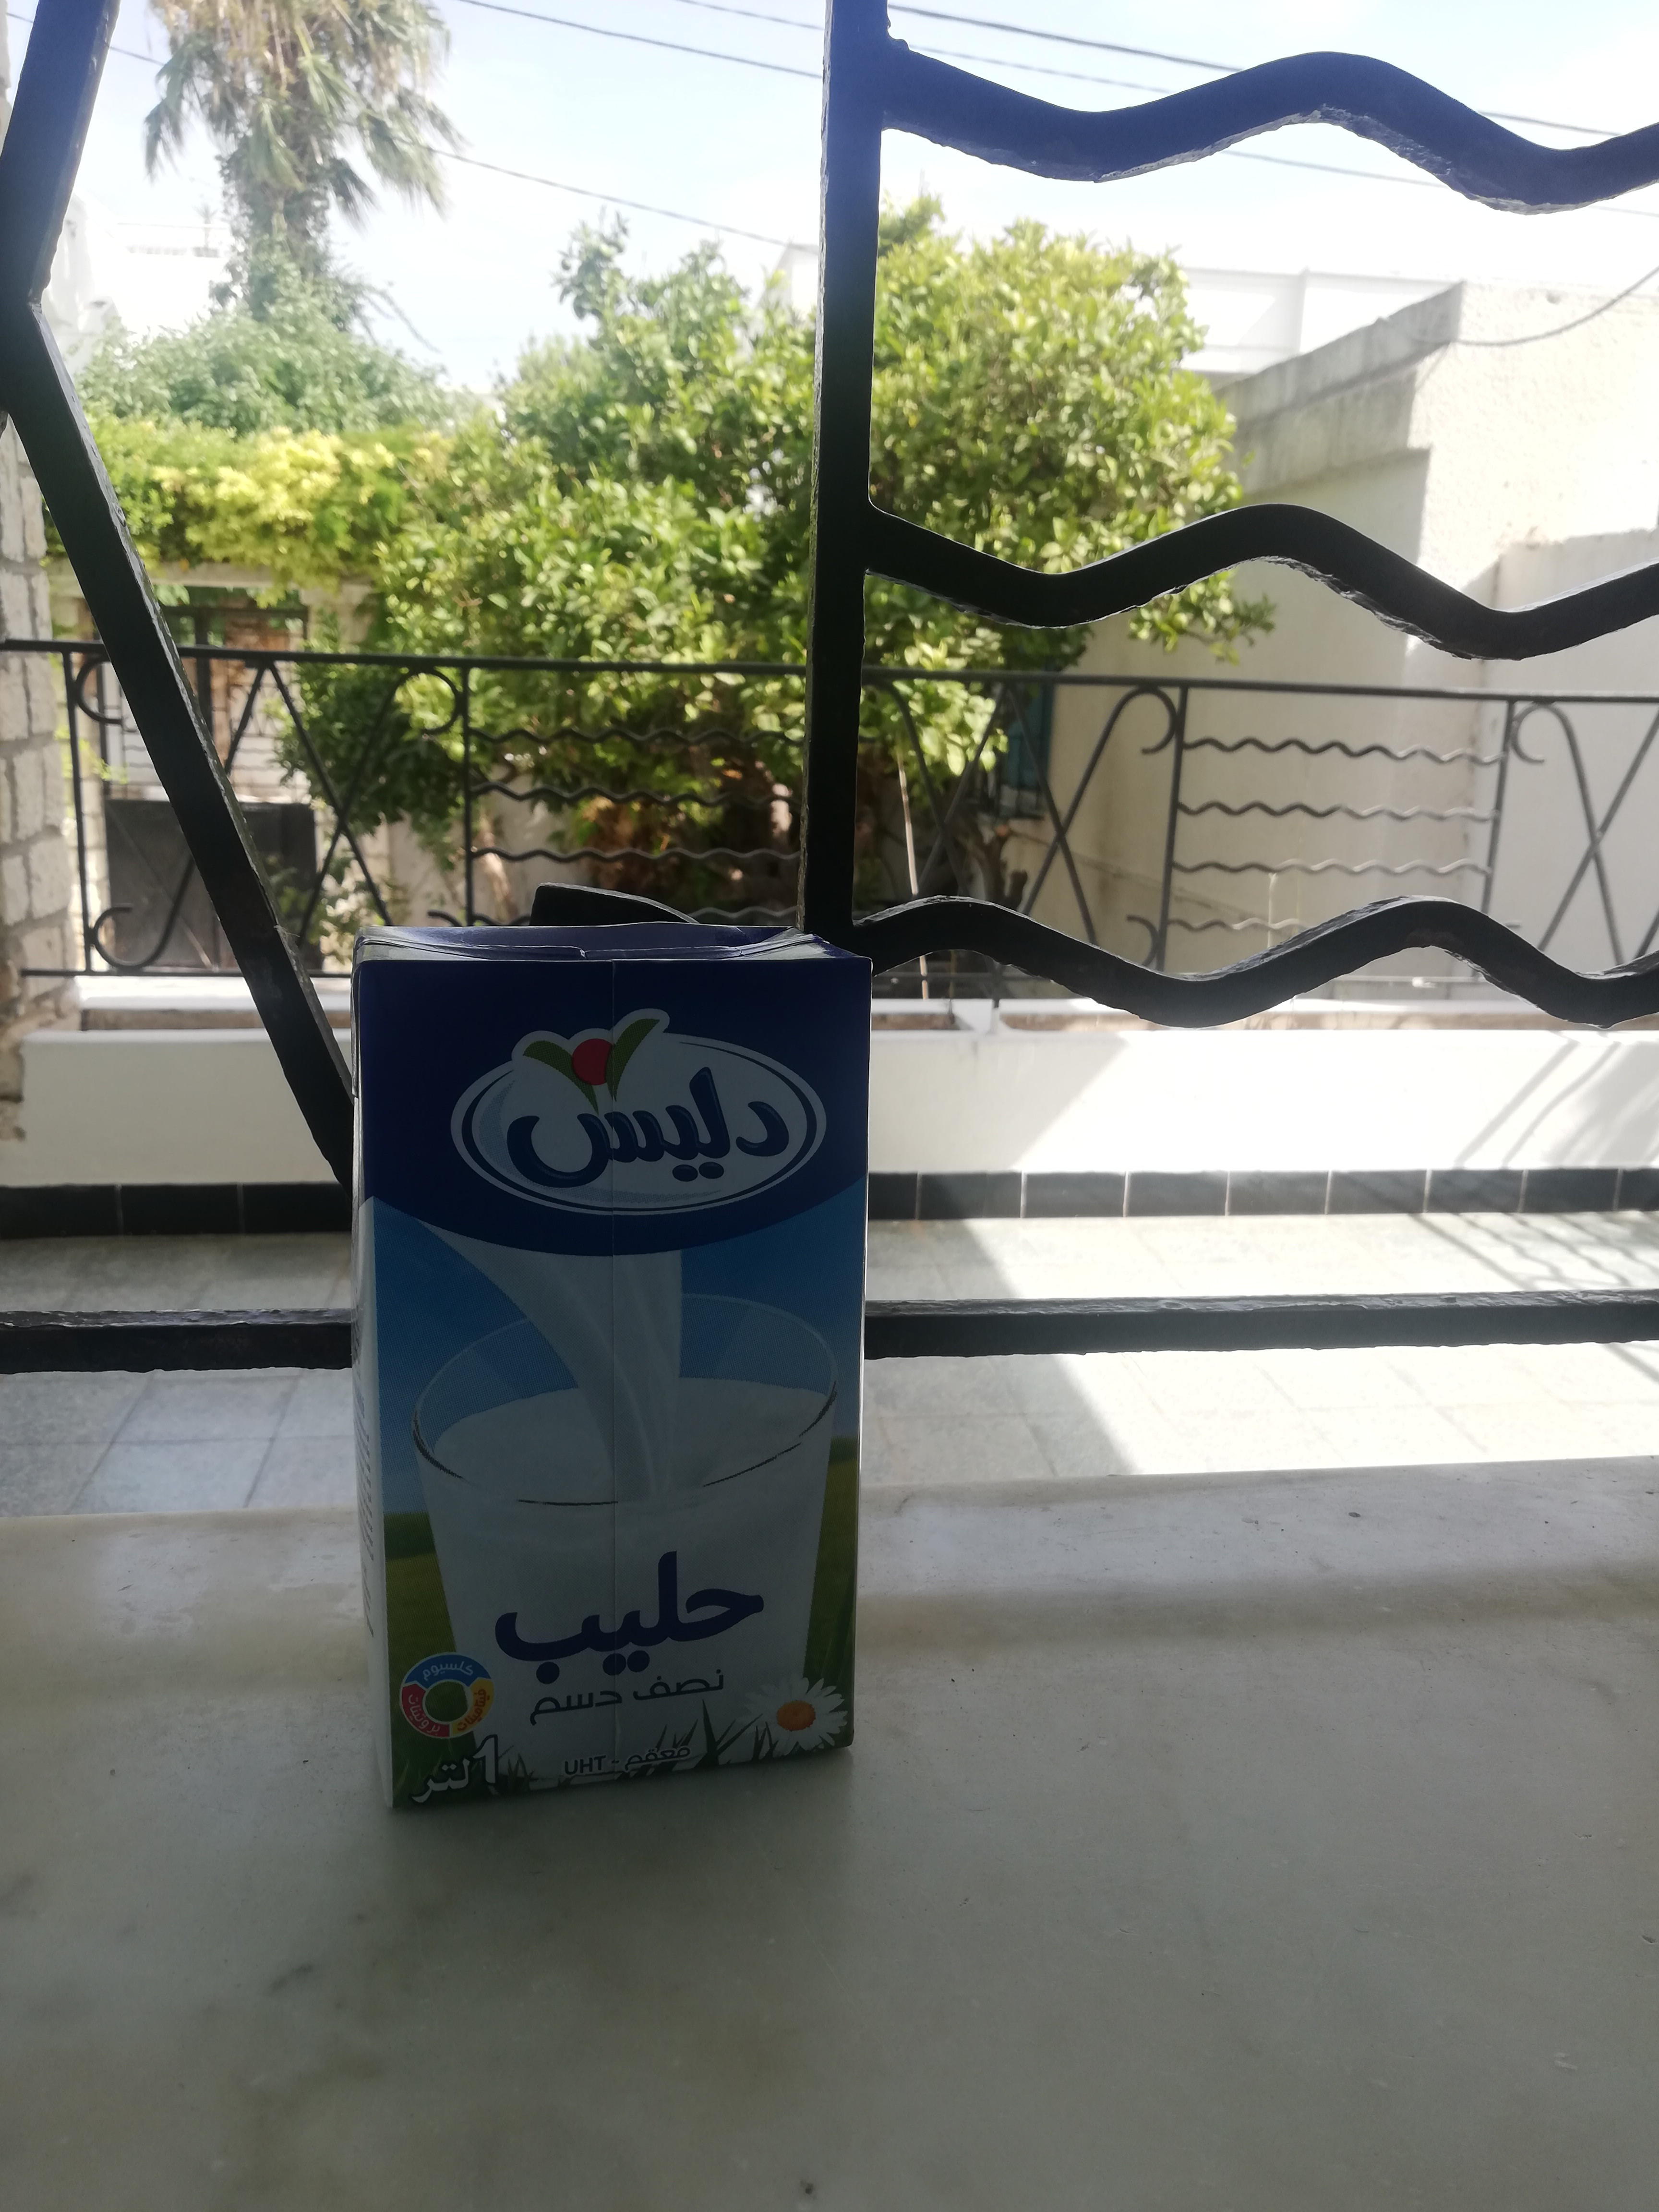Lait delice: (345, 921, 877, 1808)
